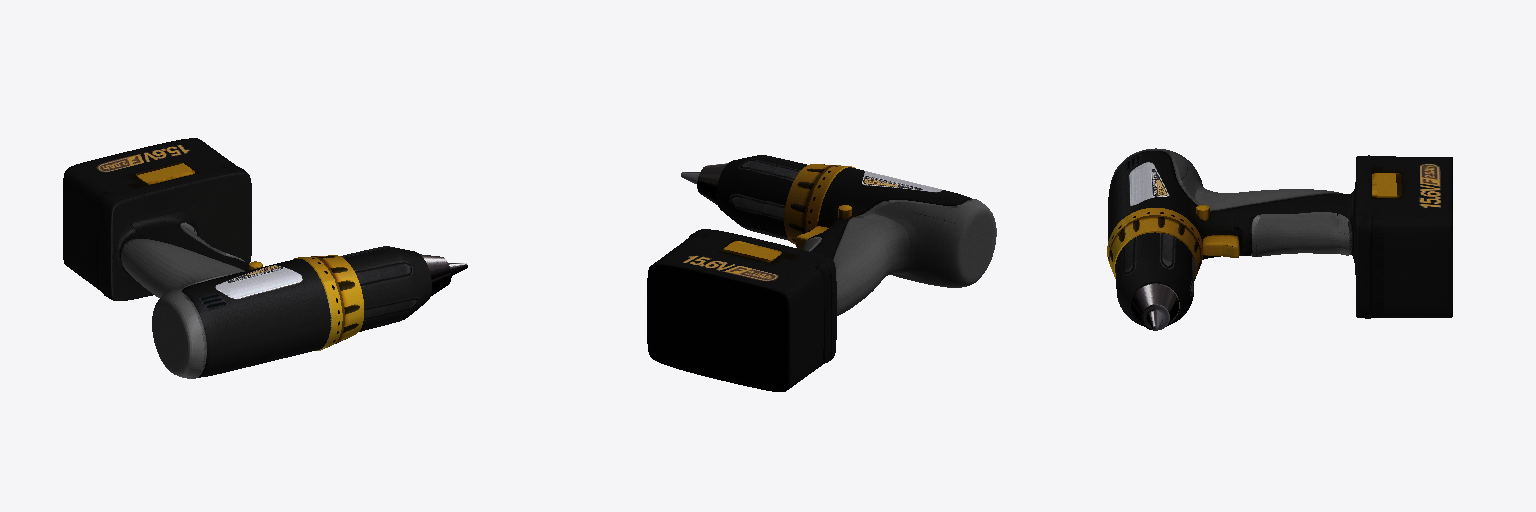
3 renders of one model, left to right at view 1: azimuth 30°, elevation 25°; view 2: azimuth 150°, elevation 25°; view 3: azimuth 270°, elevation 25°, orthographic.
Parts seen in each view (by area): view 1: 10108_Cordless_Drill_v2_Iteration2; view 2: 10108_Cordless_Drill_v2_Iteration2; view 3: 10108_Cordless_Drill_v2_Iteration2.
Boxes of the visible parts, box(x1,y1,x2,y2) form: 10108_Cordless_Drill_v2_Iteration2: box(63, 138, 467, 378); 10108_Cordless_Drill_v2_Iteration2: box(647, 155, 996, 391); 10108_Cordless_Drill_v2_Iteration2: box(1107, 148, 1452, 330).
Size of the model in its own units: 0.2579 by 0.0885 by 0.2602.
1 materials, 1 textured.